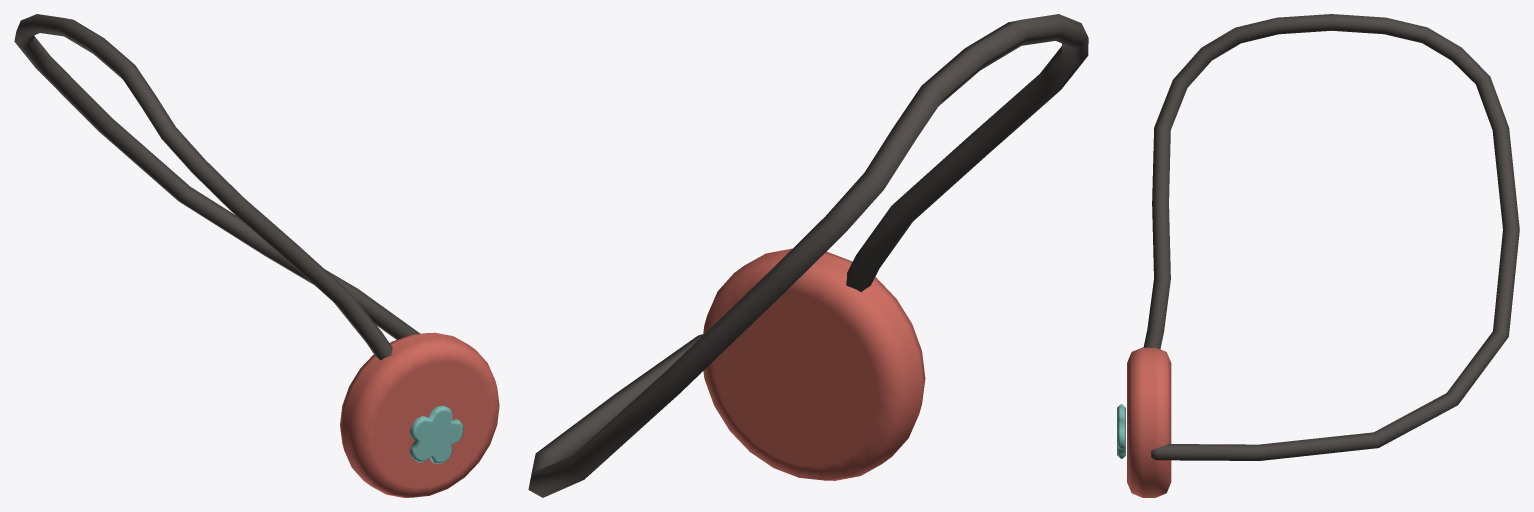
File: asian_style_clasp_purse.glb
The picture shows the model from 3 angles, left to right: view 1: azimuth 30°, elevation 25°; view 2: azimuth 150°, elevation 25°; view 3: azimuth 270°, elevation 25°; orthographic projection. The views are drawn at different scales.
Parts seen in each view (by area): view 1: asian_style_clasp_purse_Body; view 2: asian_style_clasp_purse_Body; view 3: asian_style_clasp_purse_Body.
Boxes of the visible parts, bbox=[...] form: asian_style_clasp_purse_Body: bbox=[14, 14, 499, 497]; asian_style_clasp_purse_Body: bbox=[528, 14, 1088, 497]; asian_style_clasp_purse_Body: bbox=[1117, 14, 1519, 497].
Bounding box in the file's own units: 0.3533 × 0.4741 × 0.4526.
